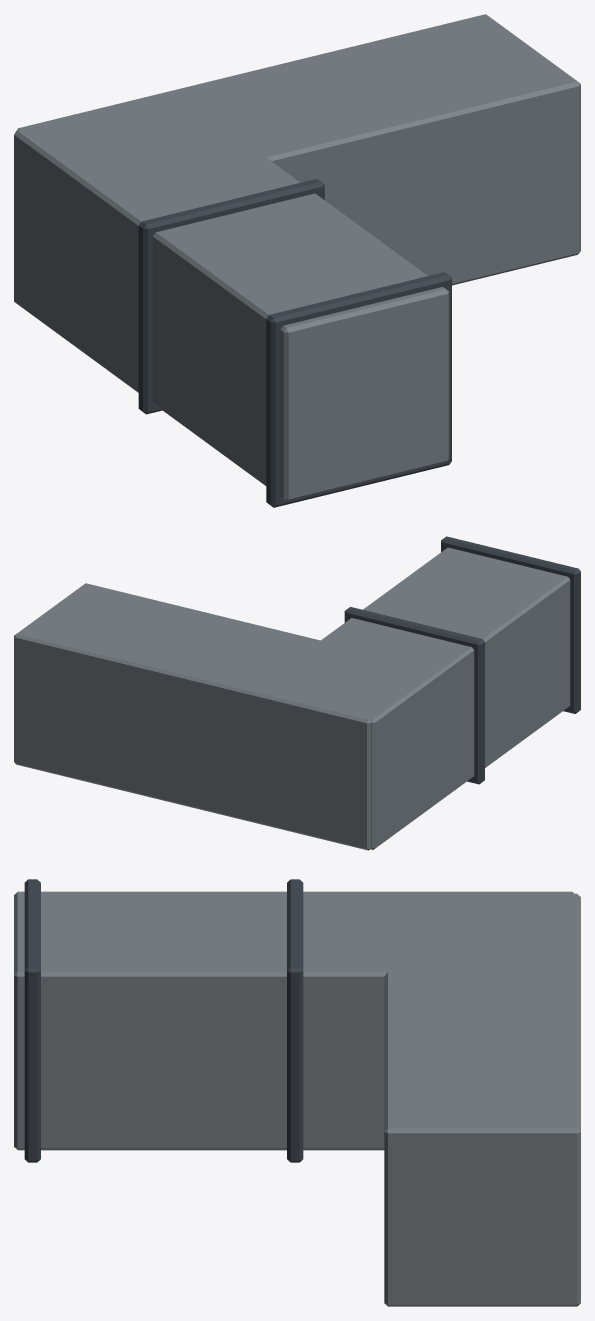
The model's file is VentDuctElbow.fbx.
3 renders of one model, top to bottom at view 1: azimuth 30°, elevation 25°; view 2: azimuth 150°, elevation 25°; view 3: azimuth 270°, elevation 25°, orthographic. The views are drawn at different scales.
Parts seen in each view (by area): view 1: VentDuctElbow; view 2: VentDuctElbow; view 3: VentDuctElbow.
Boxes of the visible parts, left/top/right/bottom form: VentDuctElbow: left=14, top=14, right=580, bottom=507; VentDuctElbow: left=14, top=536, right=580, bottom=850; VentDuctElbow: left=14, top=879, right=580, bottom=1306.
Bounding box in the file's own units: 123 × 46 × 121.
1 material, 1 textured.
